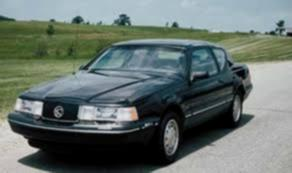Mercury: (48, 106, 68, 120)
